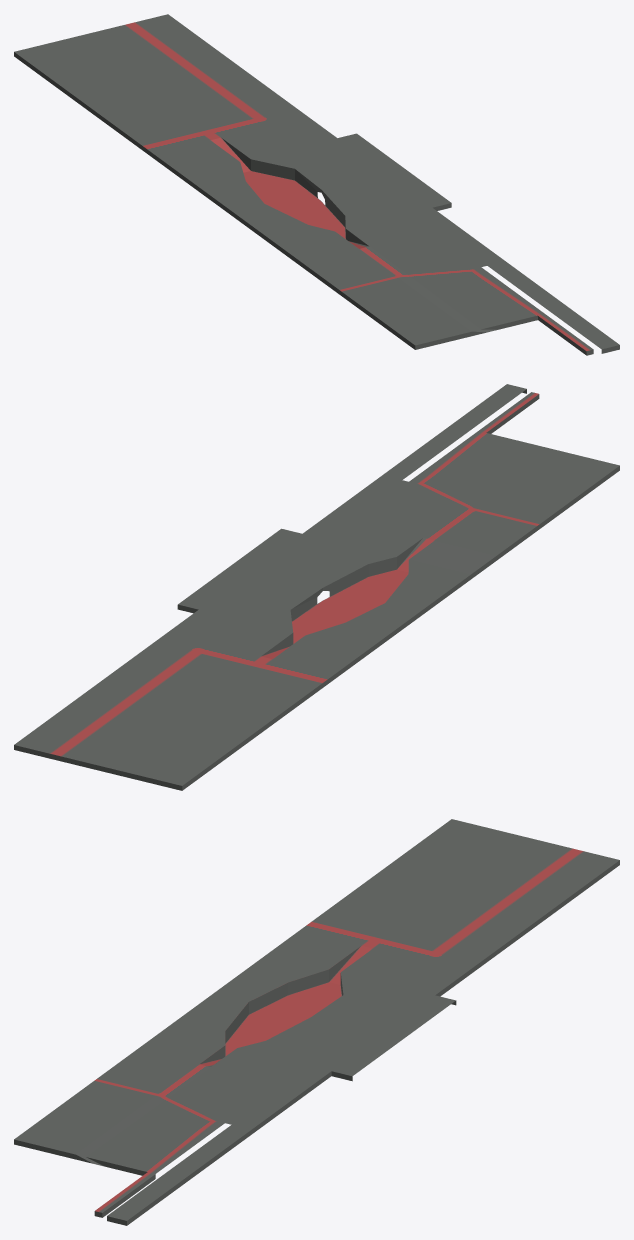
Rendered from ground 2.FBX.
3 renders of one model, top to bottom at view 1: azimuth 30°, elevation 25°; view 2: azimuth 150°, elevation 25°; view 3: azimuth 330°, elevation 25°, orthographic. The views are drawn at different scales.
Visible parts, largest first — view 1: Box015; view 2: Box015; view 3: Box015.
Part boxes in pixels (x1,y1,x2,y2): Box015: (14, 14, 619, 355); Box015: (14, 384, 619, 790); Box015: (14, 819, 619, 1225).
Size of the model in its own units: 200 by 12.94 by 904.
